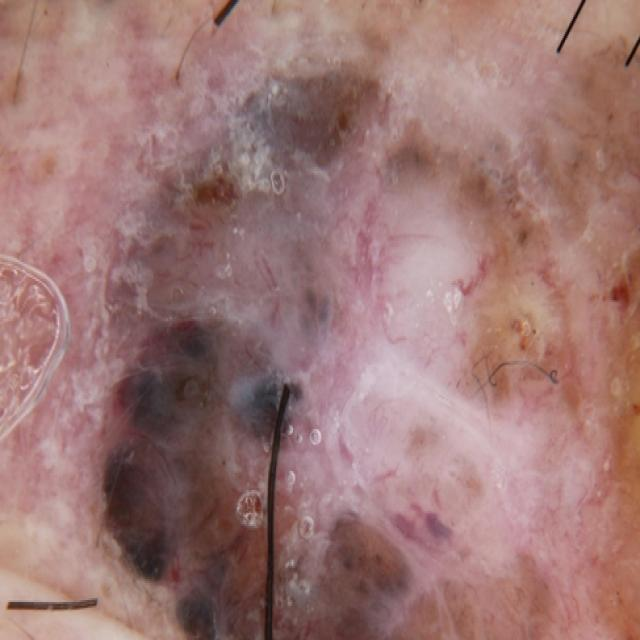Carcinoma: (118, 91, 594, 640)
